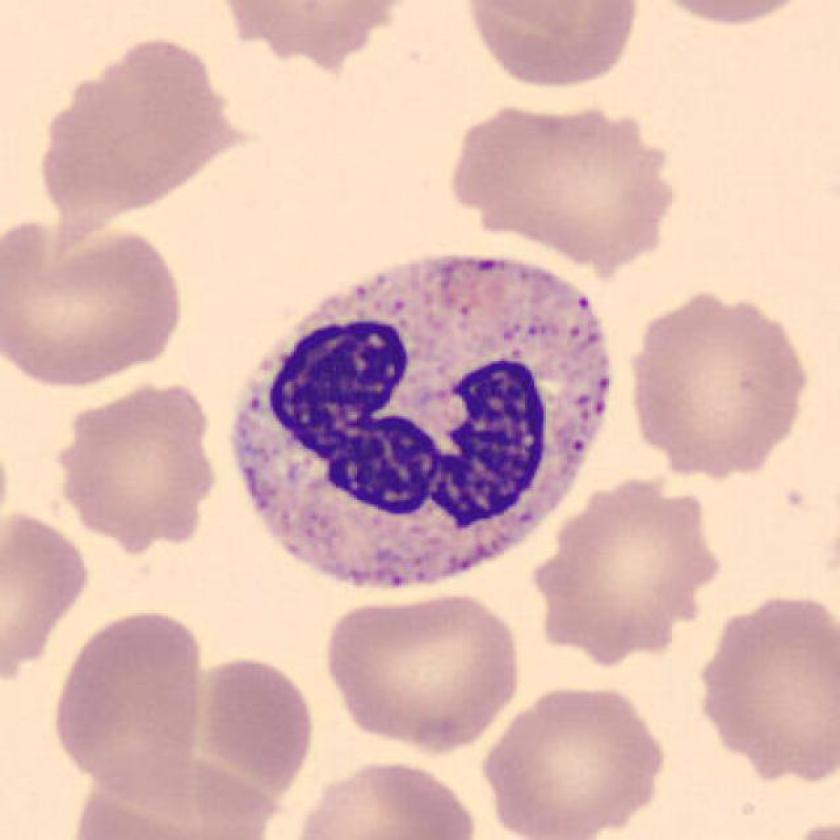neutrophil: (231, 256, 611, 581)
